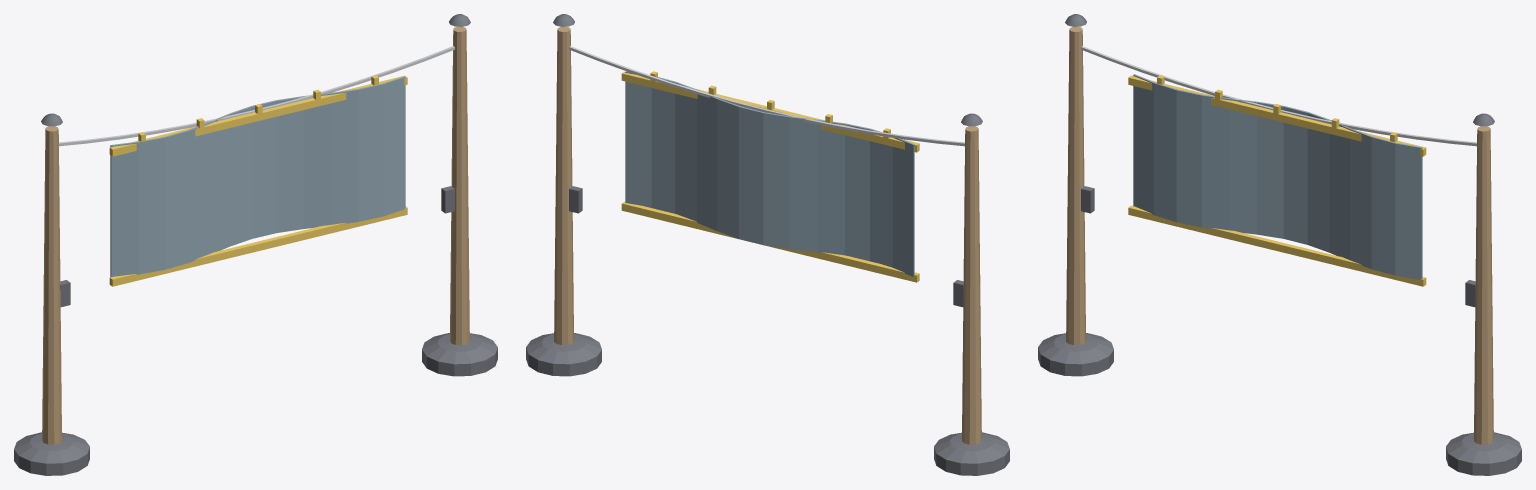
File: animated-mechanisms-kit-banner-on-rope-aeeff248__24643.glb
3 views of the same model, side by side, from view 1: azimuth 30°, elevation 25°; view 2: azimuth 150°, elevation 25°; view 3: azimuth 330°, elevation 25° (orthographic).
Visible parts, largest first — view 1: banner/paint, banner-on-rope, banner/accent; view 2: banner/paint, banner-on-rope, banner/accent; view 3: banner/paint, banner-on-rope, banner/accent.
Part boxes in pixels (bbox=[...]): banner/paint: bbox=[110, 76, 405, 277]; banner-on-rope: bbox=[14, 14, 497, 475]; banner/accent: bbox=[109, 75, 407, 286]; banner/paint: bbox=[625, 71, 914, 276]; banner-on-rope: bbox=[526, 14, 1009, 475]; banner/accent: bbox=[621, 71, 919, 282]; banner/paint: bbox=[1133, 74, 1422, 279]; banner-on-rope: bbox=[1038, 14, 1521, 475]; banner/accent: bbox=[1128, 75, 1426, 286].
Size of the model in its own units: 4.88 by 3.4 by 0.663.
